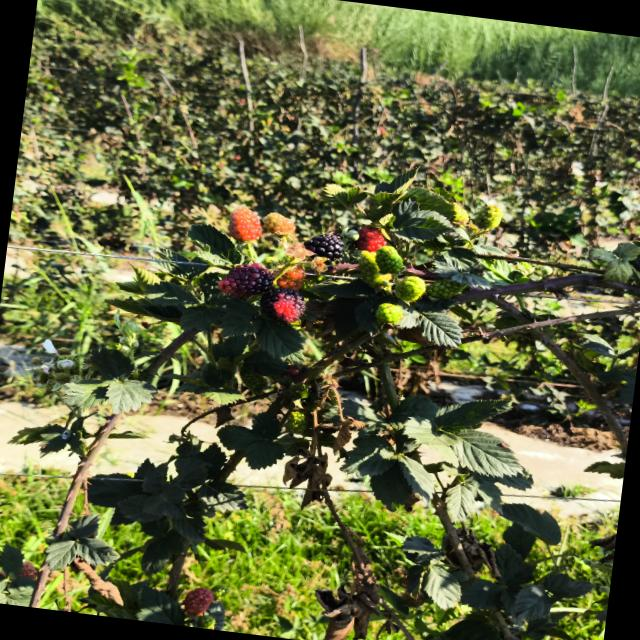maduro: (303, 233, 343, 263)
marron: (218, 263, 273, 297), (259, 288, 305, 323)
naranja: (228, 206, 261, 241), (355, 226, 387, 251), (263, 212, 295, 235), (277, 266, 305, 290)
verde: (357, 250, 391, 288), (425, 278, 467, 298), (375, 245, 403, 274), (394, 276, 425, 302), (474, 205, 502, 229), (375, 303, 403, 323)
